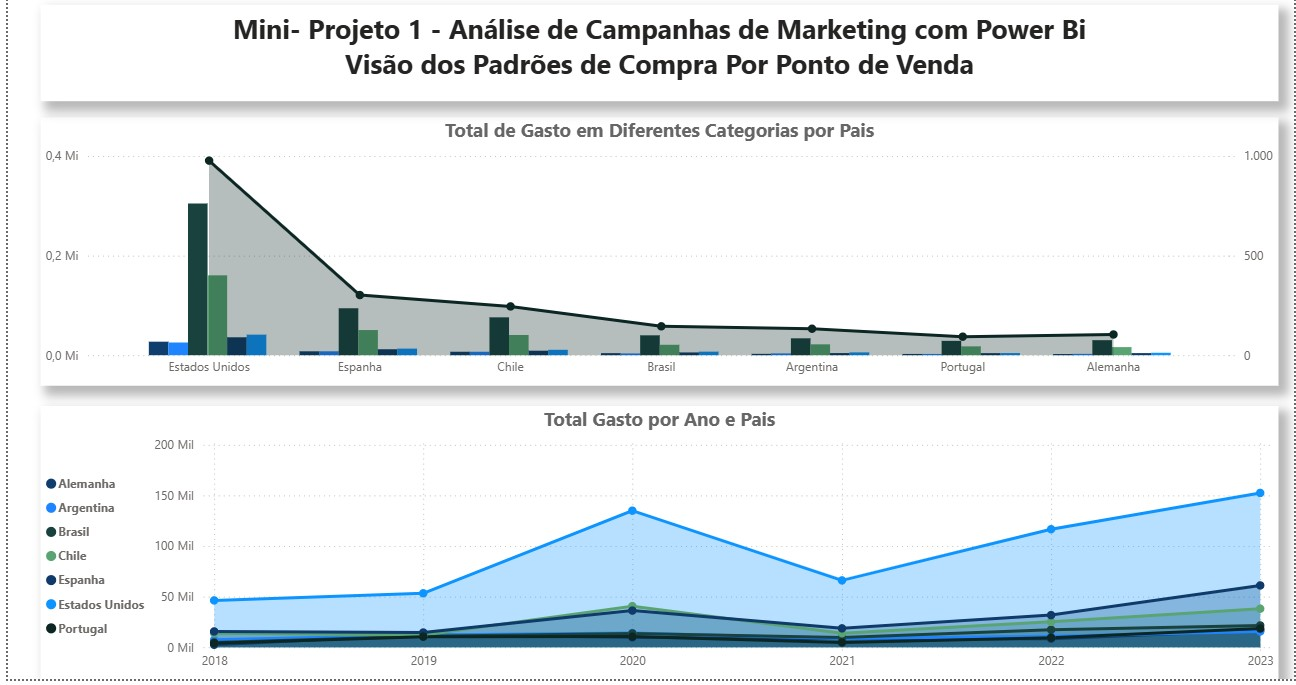

The dashboard page shown, as its layout file describes it:
{"tool":"powerbi","page":{"name":"Visão Pòntos de Venda","canvas":[1280,720],"ordinal":3},"visuals":[{"type":"lineClusteredColumnComboChart","title":"Total de Gasto em Diferentes Categorias por Pais","fields":{"Category":["Dados Marketing.Pais"],"Y":["Sum(Dados Marketing.Gasto com Alimentos)","Sum(Dados Marketing.Gasto com Brinquedos)","Sum(Dados Marketing.Gasto com Eletronicos)","Sum(Dados Marketing.Gasto com Moveis)","Sum(Dados Marketing.Gasto com Utilidades)","Sum(Dados Marketing.Gasto com Vestuario)"],"Y2":["CountNonNull(Dados Marketing.ID)"]},"box":[32,160,1232,267],"z":0},{"type":"textbox","box":[32,48,1232,96],"z":1},{"type":"lineChart","fields":{"Y":["Dados Marketing.Total Gasto"],"Series":["Dados Marketing.Pais"],"Category":["Dados Marketing.Data Cadastro.Variation.Hierarquia de datas.Ano"]},"box":[32,448,1232,272],"z":2}]}

Visuals, with their boxes on the page's 1280x720 design canvas (x1, y1, x2, y2). These are canvas units, not pixel positions in the 1296x685 screenshot, which may show the page scaled, cropped or inside an application window:
"Total de Gasto em Diferentes Categorias por Pais" lineClusteredColumnComboChart: box=[32, 160, 1264, 427]
textbox: box=[32, 48, 1264, 144]
lineChart - Dados Marketing.Total Gasto x Dados Marketing.Pais: box=[32, 448, 1264, 720]
